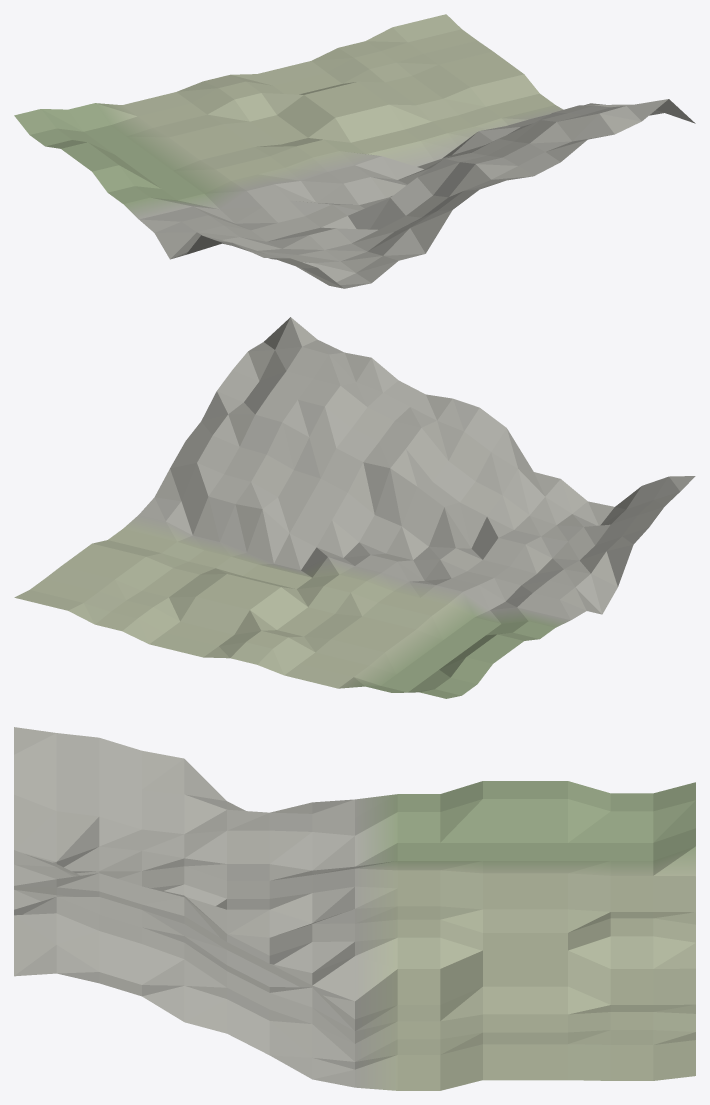
The picture shows the model from 3 angles, top to bottom: view 1: azimuth 30°, elevation 25°; view 2: azimuth 150°, elevation 25°; view 3: azimuth 270°, elevation 25°; orthographic projection. The views are drawn at different scales.
Bounding box in the file's own units: 32 × 9.21 × 32.
